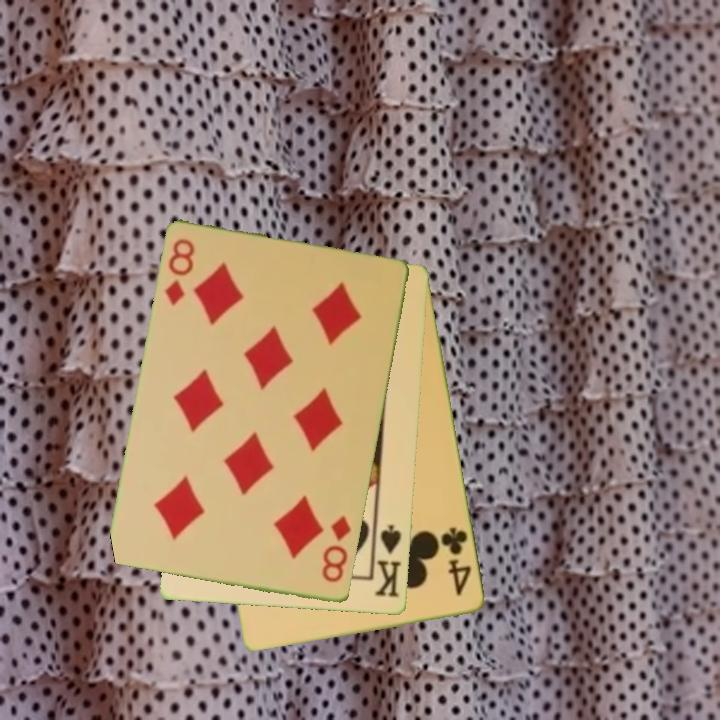4c: (437, 524, 475, 599)
8d: (160, 235, 198, 309), (318, 512, 354, 586)
Ks: (370, 519, 404, 601)
